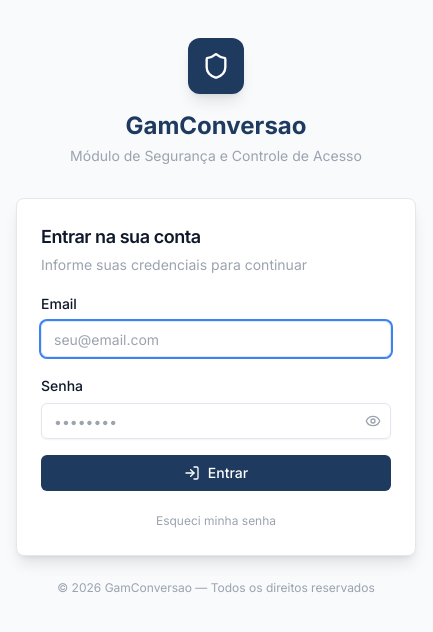
it: LoginPage › exibe erros de validação quando submete vazio
Click the button "Entrar": (216,473) x1=41 y1=455 x2=391 y2=491
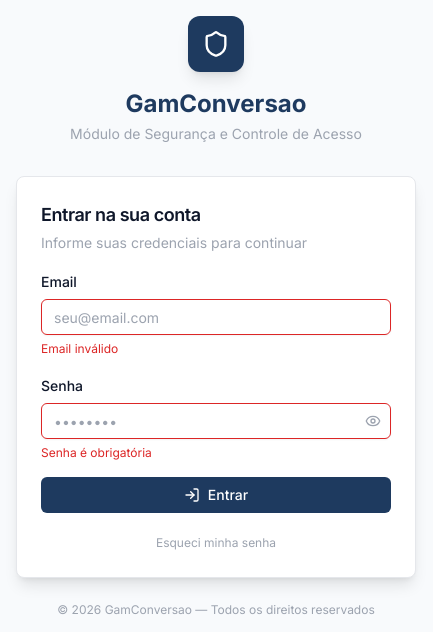
Expected: the text "Email inválido" is shown, x1=41 y1=341 x2=118 y2=356
